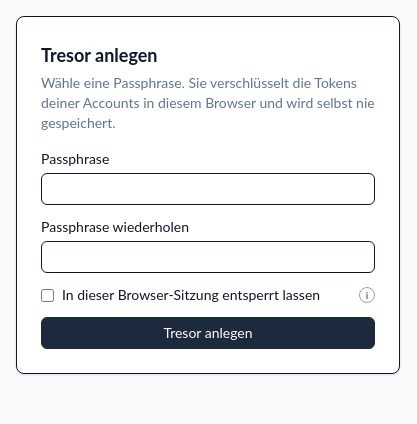
Test: PassphraseGate › refuses a passphrase that is too short
Type "short" into the password field labelled "Passphrase" at (208, 189), box [41,173,375,205]
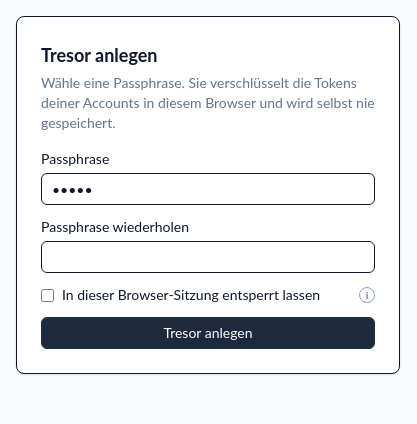
Type "short" into the password field labelled "Passphrase wiederholen" at (208, 257), box [41,241,375,273]
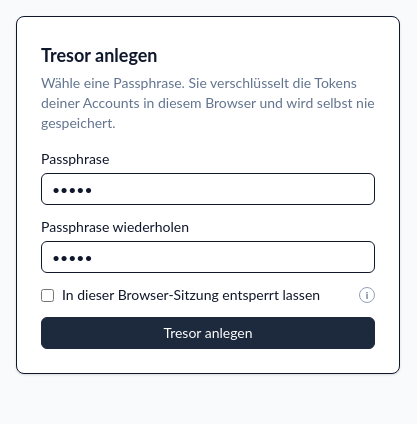
Submit the form, box [41,149,375,349]
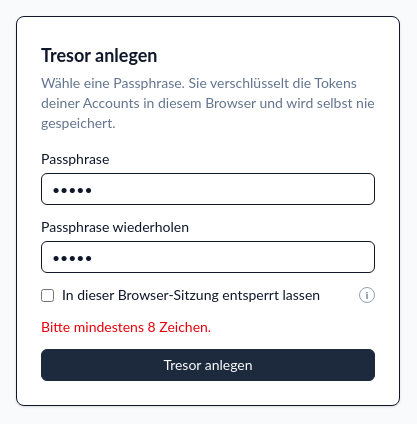
Expected: the text "Bitte mindestens 8 Zeichen." is shown, [41,318,211,335]
